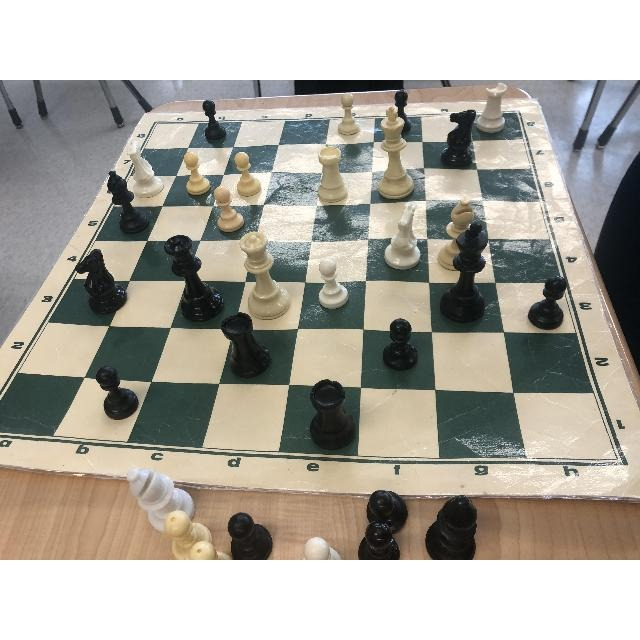black-bishop: (109, 169, 149, 232)
black-king: (440, 222, 488, 322)
black-knight: (75, 249, 127, 313), (442, 109, 476, 167)
black-pawn: (96, 366, 139, 420), (528, 277, 565, 329), (384, 318, 418, 370), (203, 100, 226, 142), (392, 90, 411, 135)
black-queen: (164, 235, 223, 321)
black-rook: (311, 378, 357, 449), (222, 312, 270, 377)
white-bishop: (439, 197, 476, 270)
white-king: (379, 106, 414, 199)
white-knight: (384, 200, 419, 269), (127, 141, 163, 199)
white-pawn: (318, 258, 348, 308), (214, 186, 243, 232), (184, 150, 210, 195), (235, 150, 260, 195), (339, 94, 359, 135)
white-queen: (239, 230, 289, 319)
white-rook: (318, 146, 348, 202), (476, 83, 506, 133)
